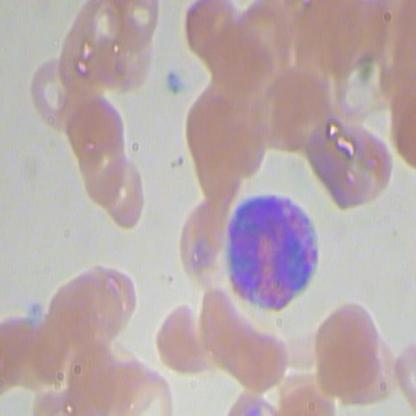Platelets: (162, 69, 184, 101)
RBC: (309, 297, 388, 403), (174, 192, 230, 282), (27, 55, 88, 132), (154, 298, 211, 378), (96, 153, 153, 233)
WBC: (220, 190, 325, 315)
